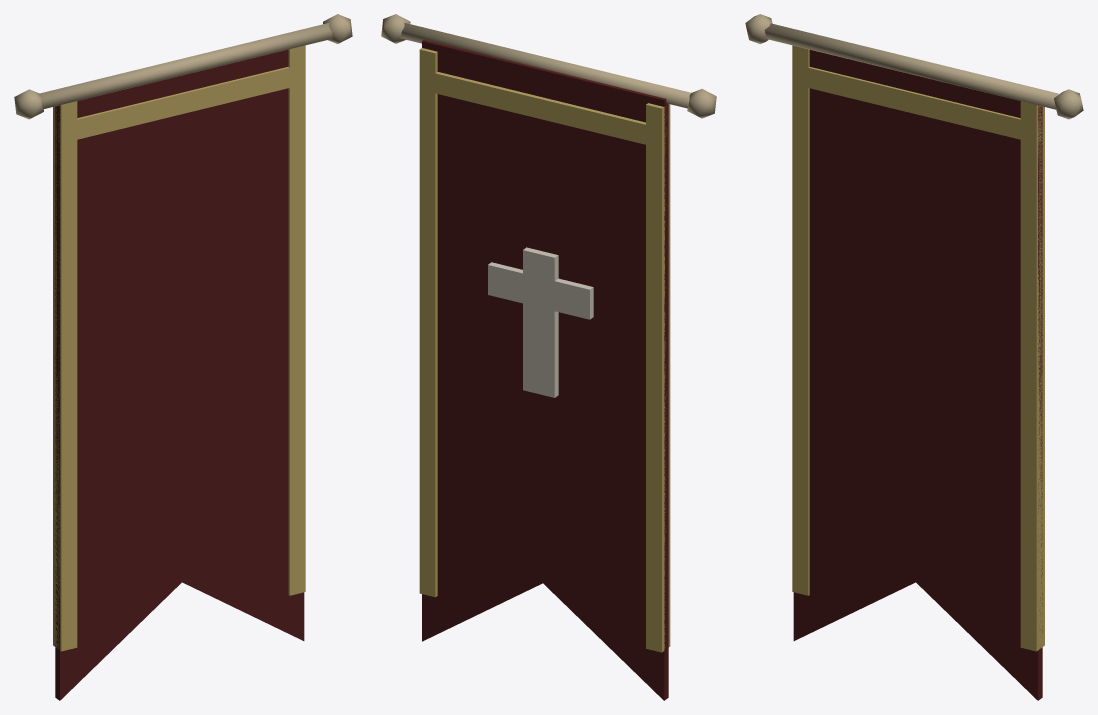
The model's file is face_monster_banner_v0.glb.
3 views of the same model, side by side, from view 1: azimuth 30°, elevation 25°; view 2: azimuth 150°, elevation 25°; view 3: azimuth 330°, elevation 25° (orthographic).
Parts seen in each view (by area): view 1: face_monster_banner_v0; view 2: face_monster_banner_v0; view 3: face_monster_banner_v0.
Part boxes in pixels (left/top/right/bottom): face_monster_banner_v0: left=14, top=14, right=352, bottom=700; face_monster_banner_v0: left=381, top=14, right=716, bottom=700; face_monster_banner_v0: left=745, top=14, right=1083, bottom=700.
Size of the model in its own units: 1.04 by 1.84 by 0.0933.
